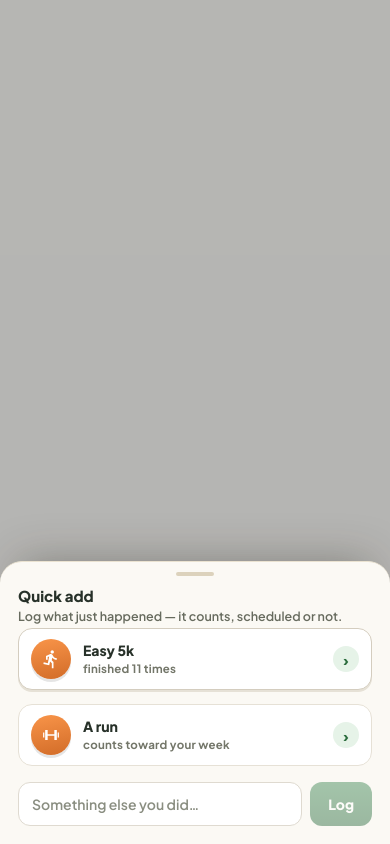
it: QuickAddSheet › a failed session fetch on the pill shows the honest line and logs nothing
The image size is (390, 844).
Click the button labelled "Easy 5k finished 11 times ›": (51, 659) top-left (18, 628), bottom-right (372, 690)
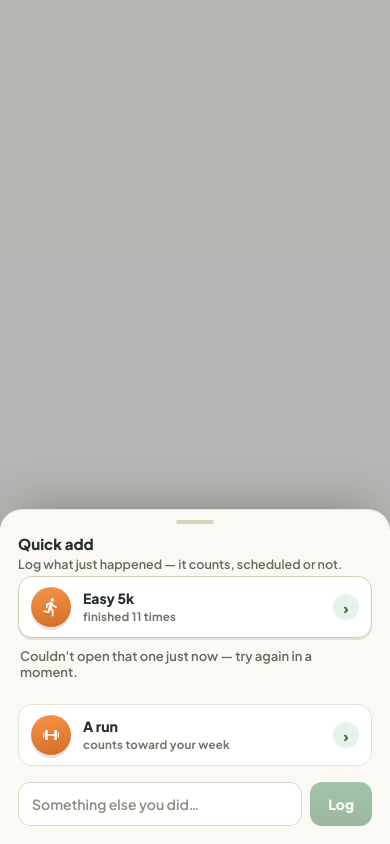
Expected: the text "Couldn't open that one just now — try again in a moment." is shown, top-left (20, 648), bottom-right (312, 680)
